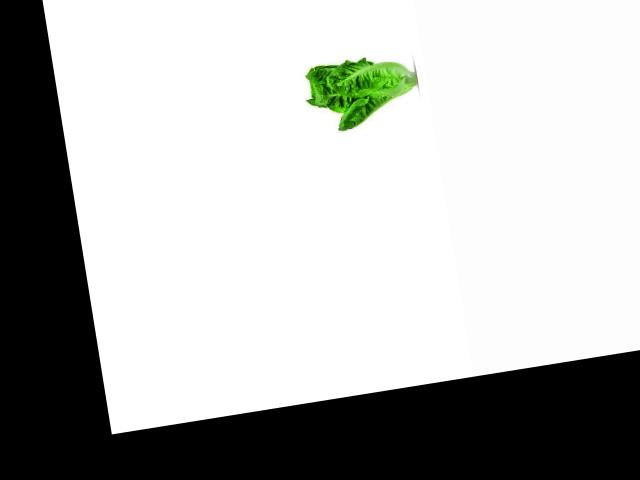lettuce: (299, 46, 418, 136)
